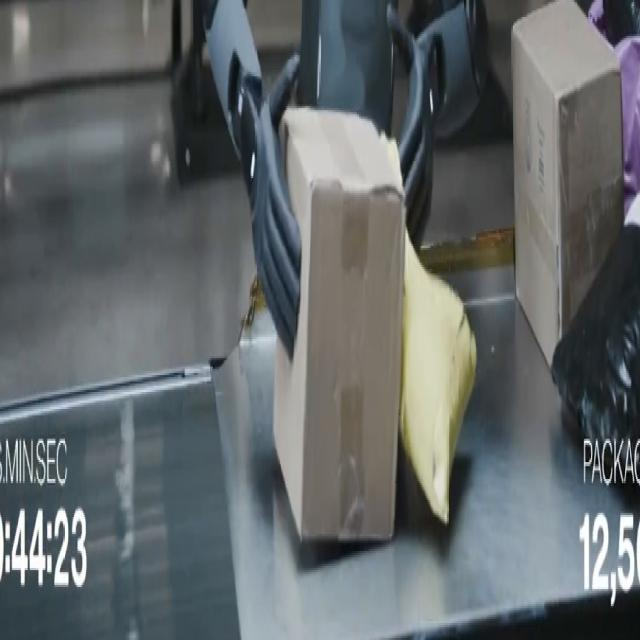package: (274, 109, 404, 540), (512, 0, 623, 364), (552, 198, 639, 451), (400, 238, 476, 523), (589, 0, 639, 214), (602, 0, 639, 44)
